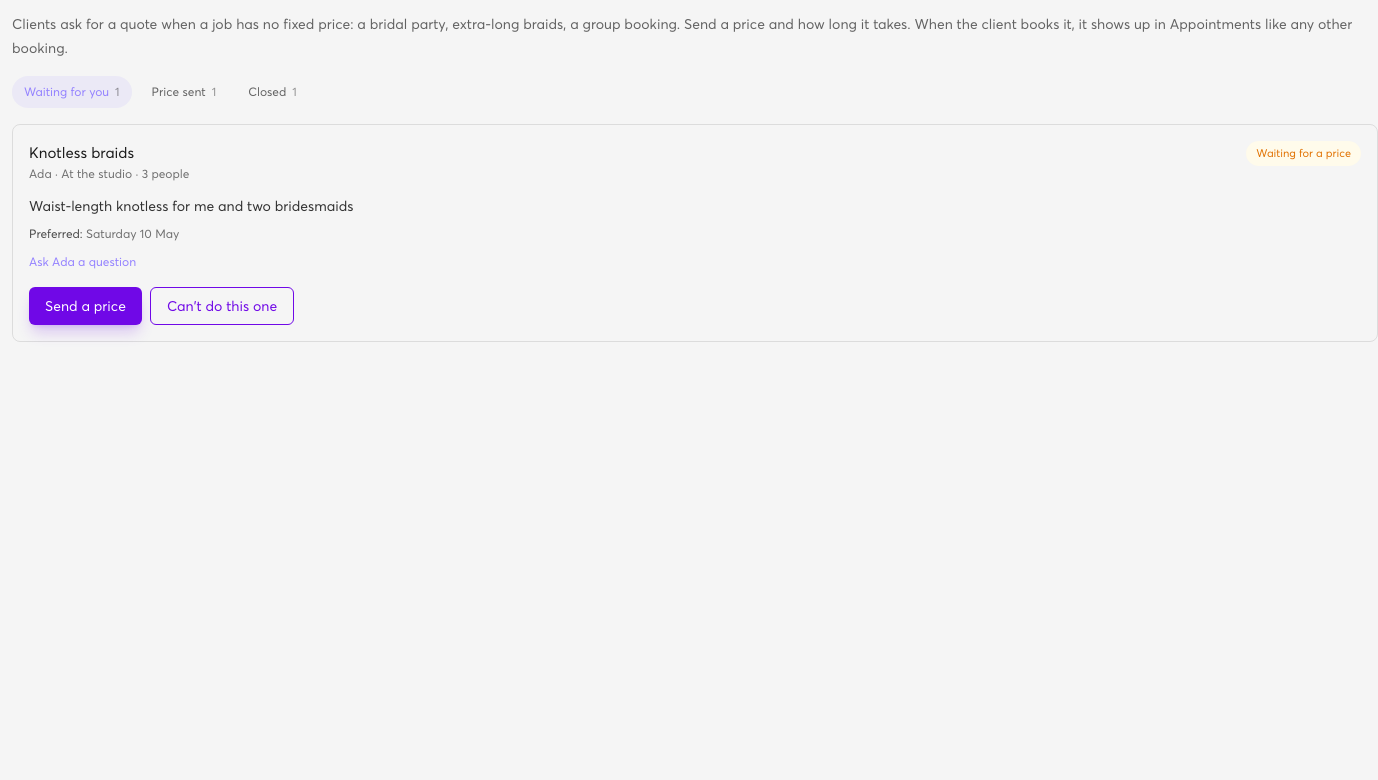
Scenario: StylerQuotes › a price that isn't a number is caught before sending
This screenshot has width=1378, height=780.
Click the button "Send a price" at (85, 306), box x1=29 y1=287 x2=142 y2=325
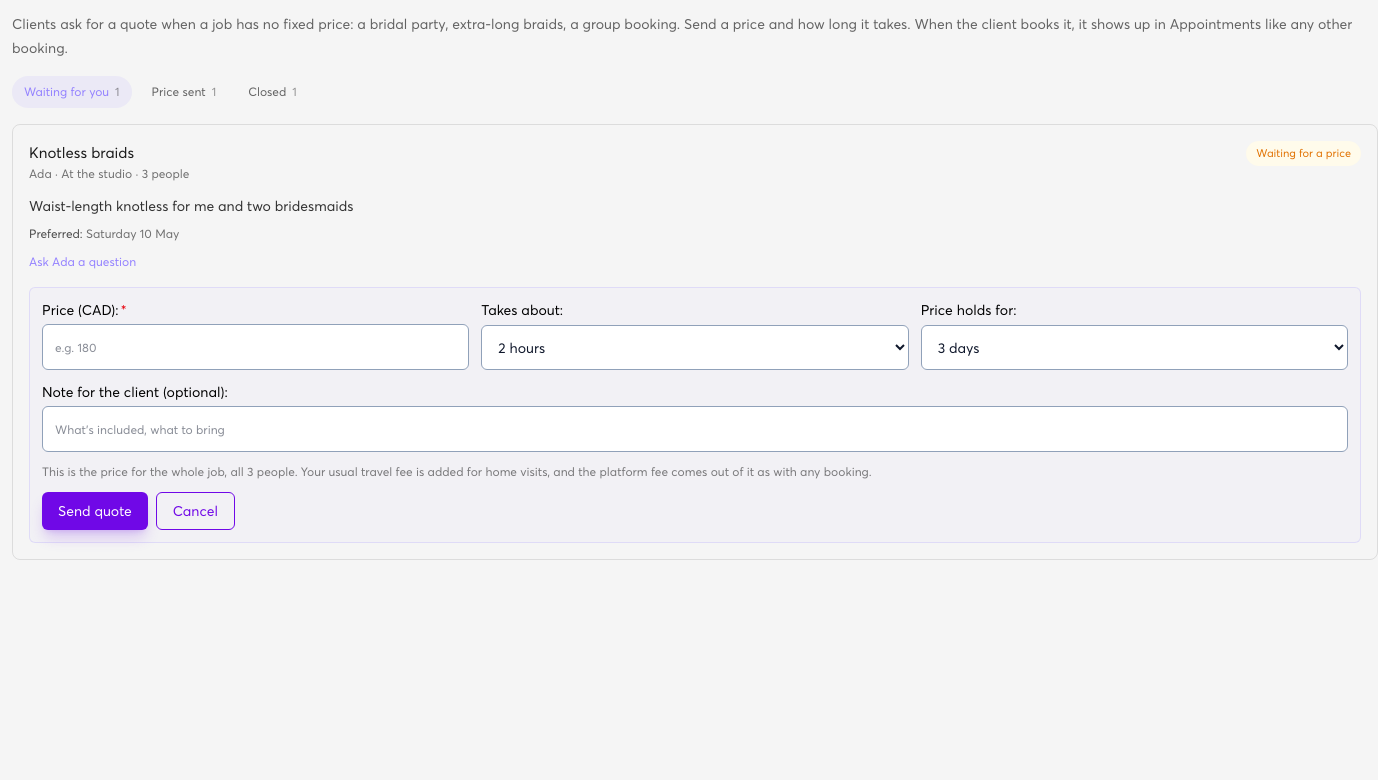
Type "about 300" into the field labelled "Price (CAD):" at (256, 347), box x1=42 y1=324 x2=469 y2=370
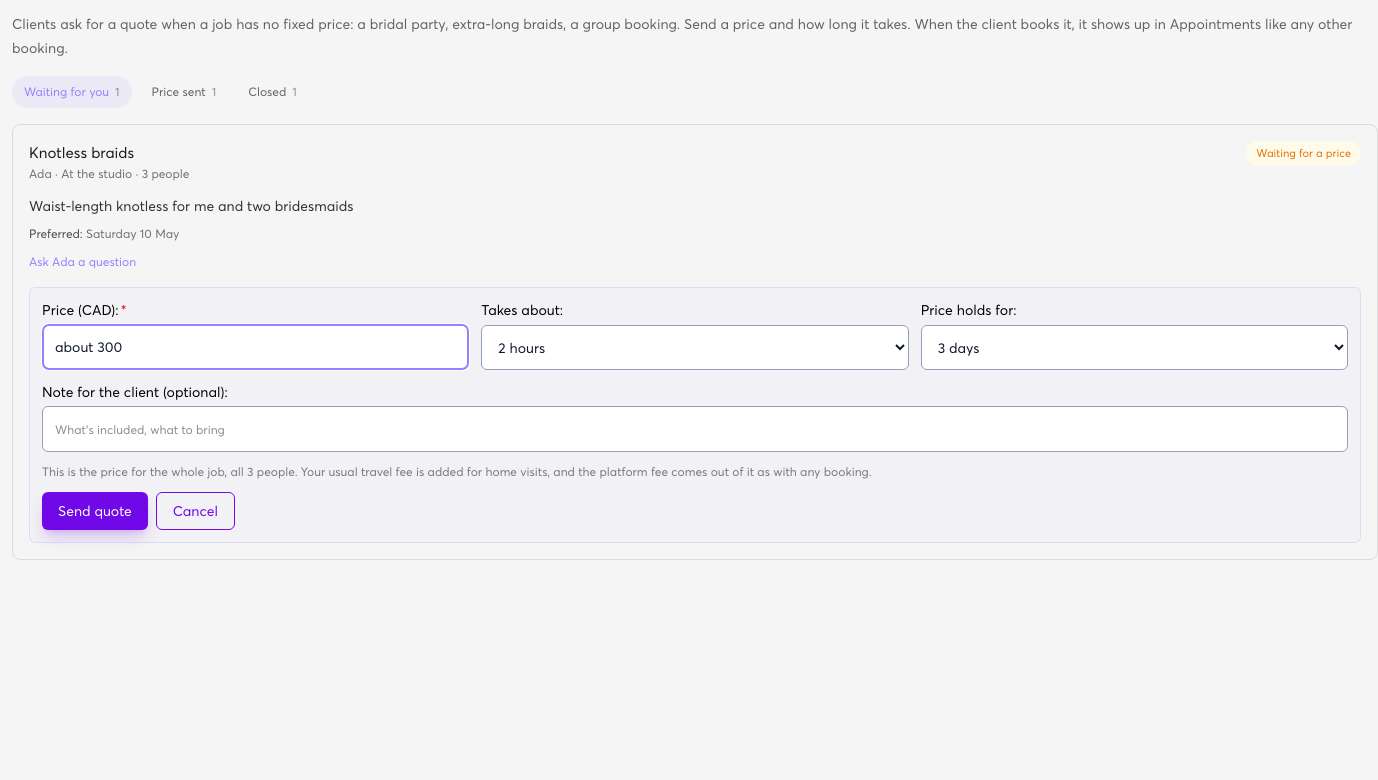
Click the button "Send quote" at (95, 511), box x1=42 y1=492 x2=148 y2=530
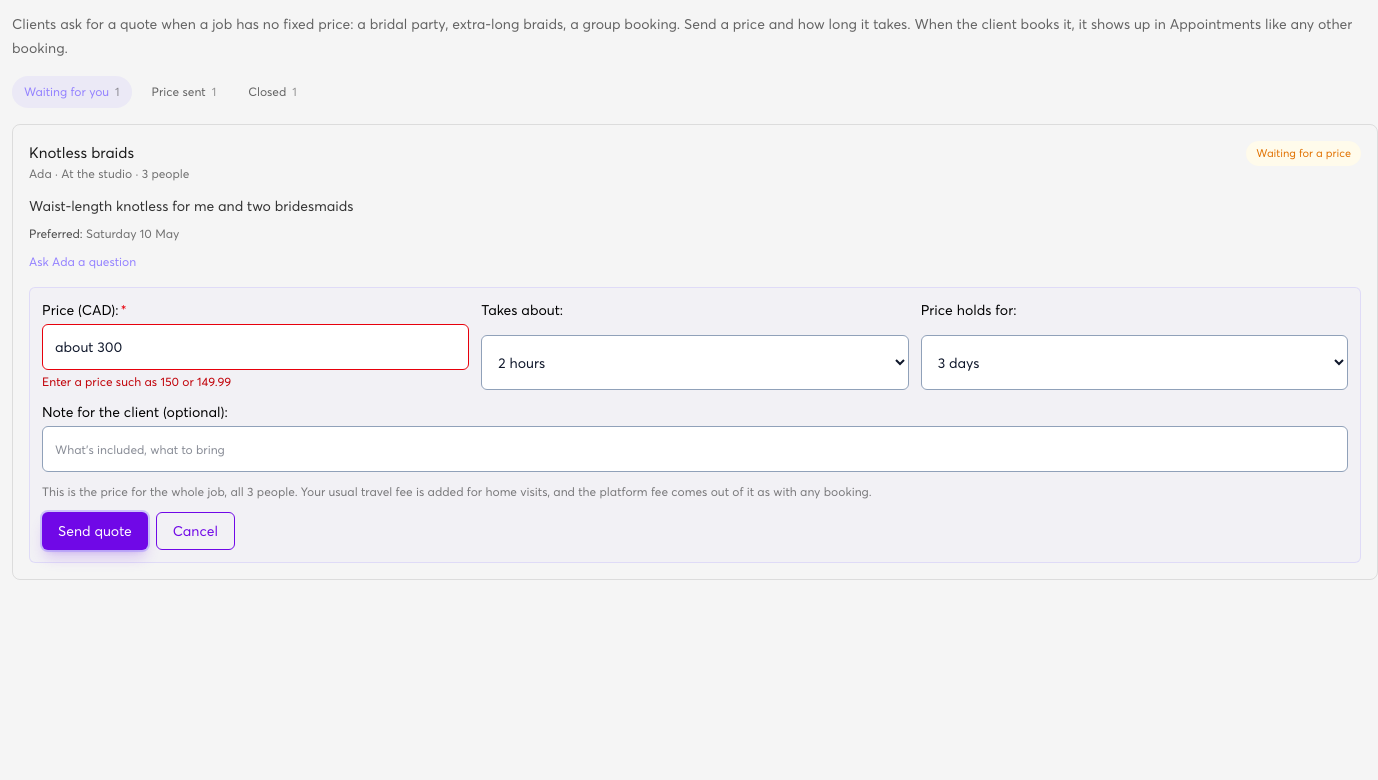
Result: the message reads "Enter a price such as 150 or 149.99" at x1=42 y1=374 x2=231 y2=389
